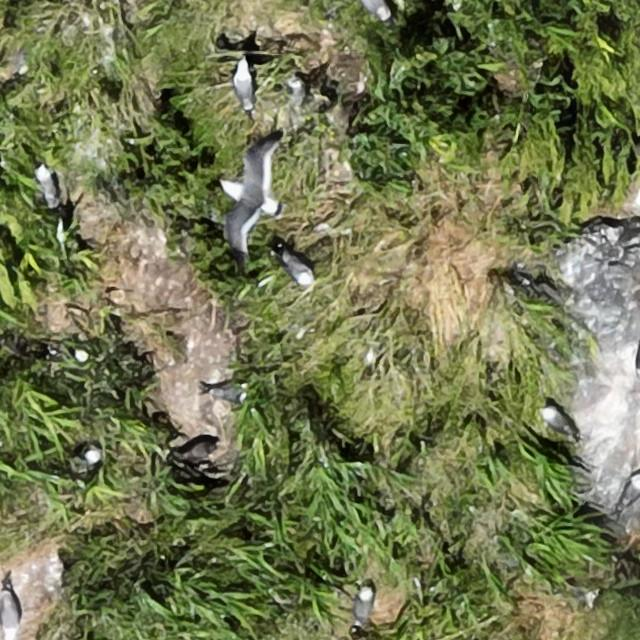F: (224, 151, 283, 256)
umineko: (284, 254, 313, 286), (233, 65, 253, 111), (1, 594, 19, 635), (38, 168, 57, 205), (542, 407, 567, 433), (355, 590, 373, 626), (361, 1, 388, 21), (624, 476, 640, 504), (81, 447, 100, 468)
